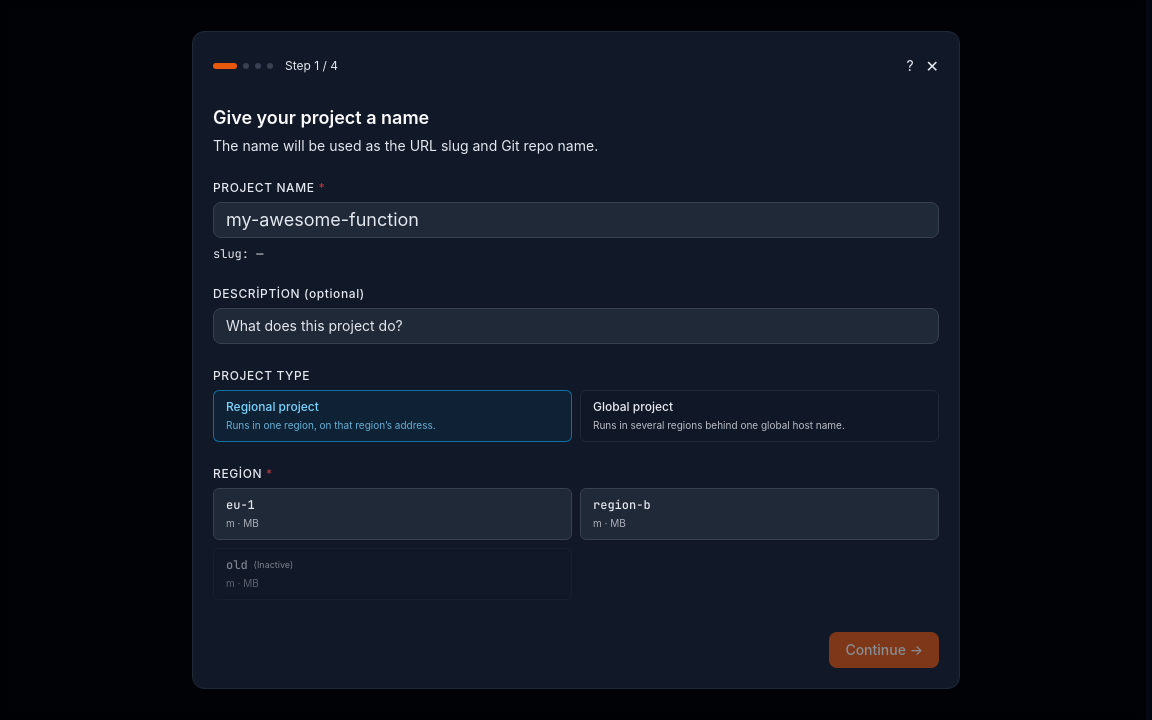
Test: CreateProjectModal wizard › step 1 needs a 2+ character, unique, Kubernetes-safe name and a ready region
Step 1. Type "x" into the field with placeholder "my-awesome-function" → [576, 220], box [213,202,939,238]
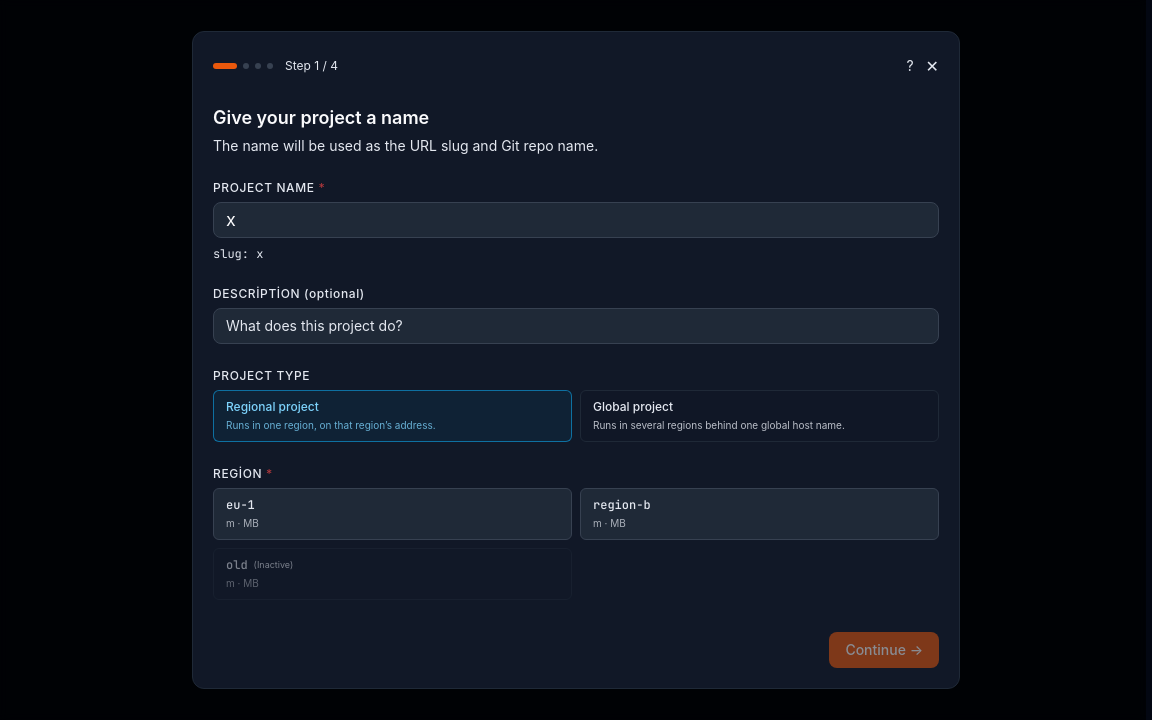
Step 2. Click the button "eu-1 m · MB" → [242, 523], box [213,488,572,540]
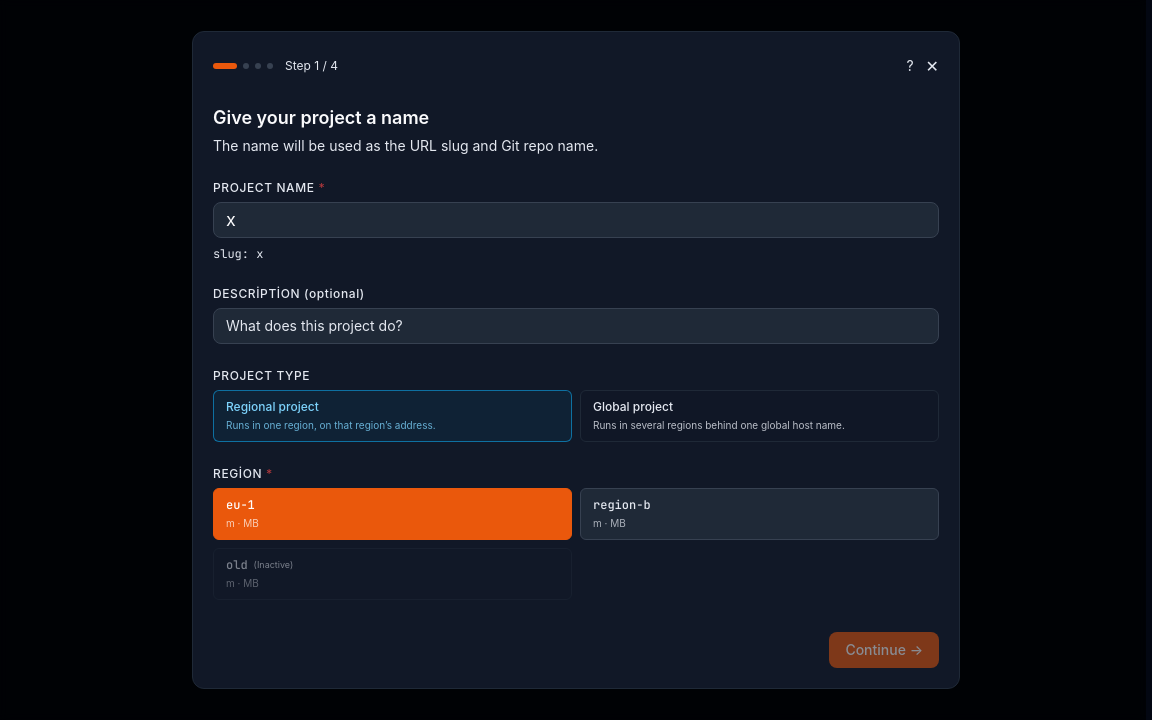
Step 3. Replace the text in the 1st field with "billing" → [576, 220], box [213,202,939,238]
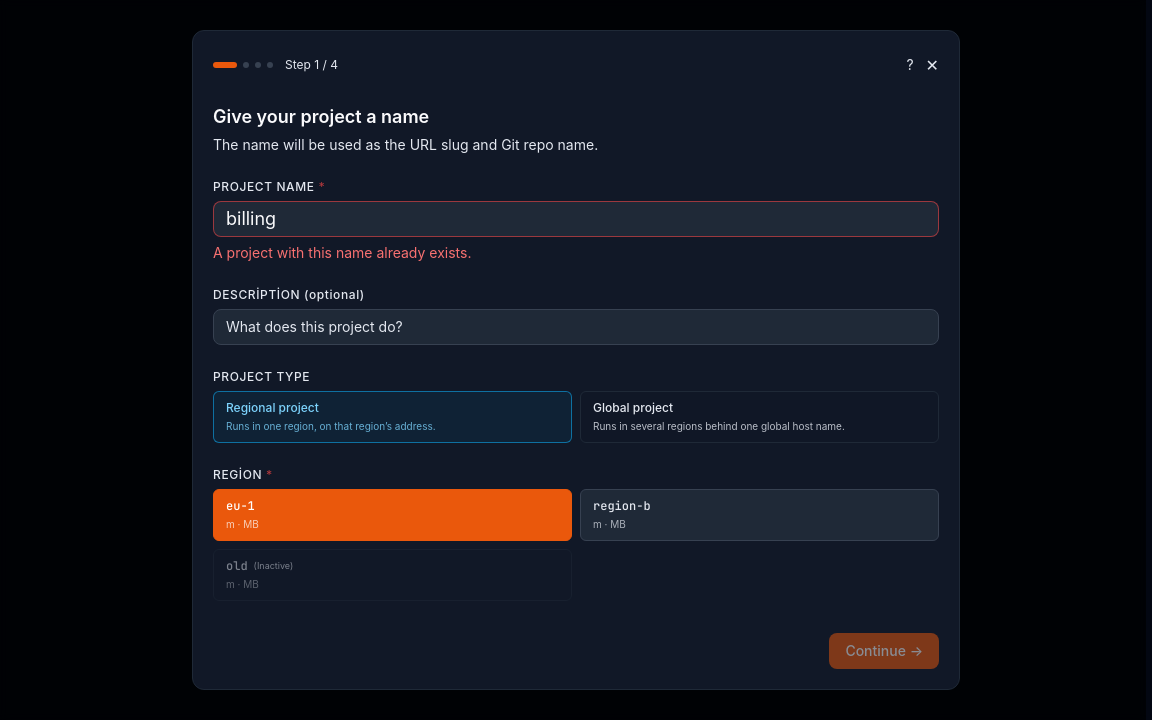
Check: the text "A project with this name already exists." is shown, box [213,244,471,261]
Step 4. Replace the text in the 1st field with "42 things" → [576, 219], box [213,201,939,237]
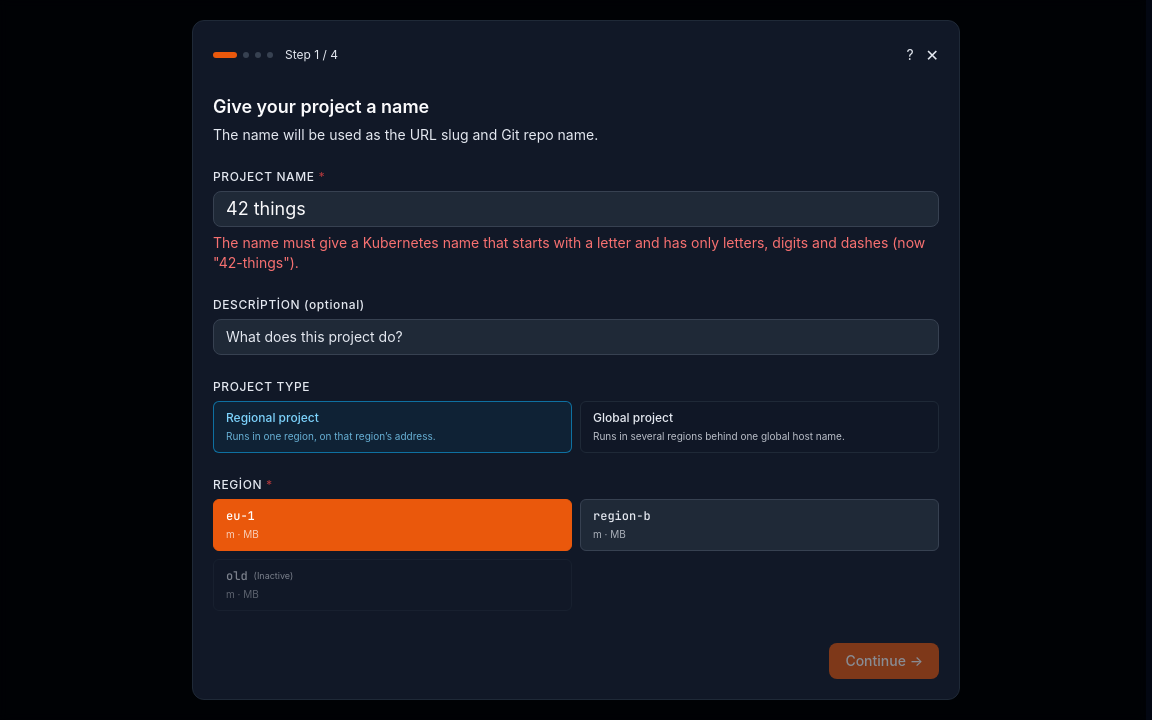
Check: the text "starts with a letter" is shown, box [213,234,925,271]
Step 5. Replace the text in the 1st field with "Orders API" → [576, 209], box [213,191,939,227]
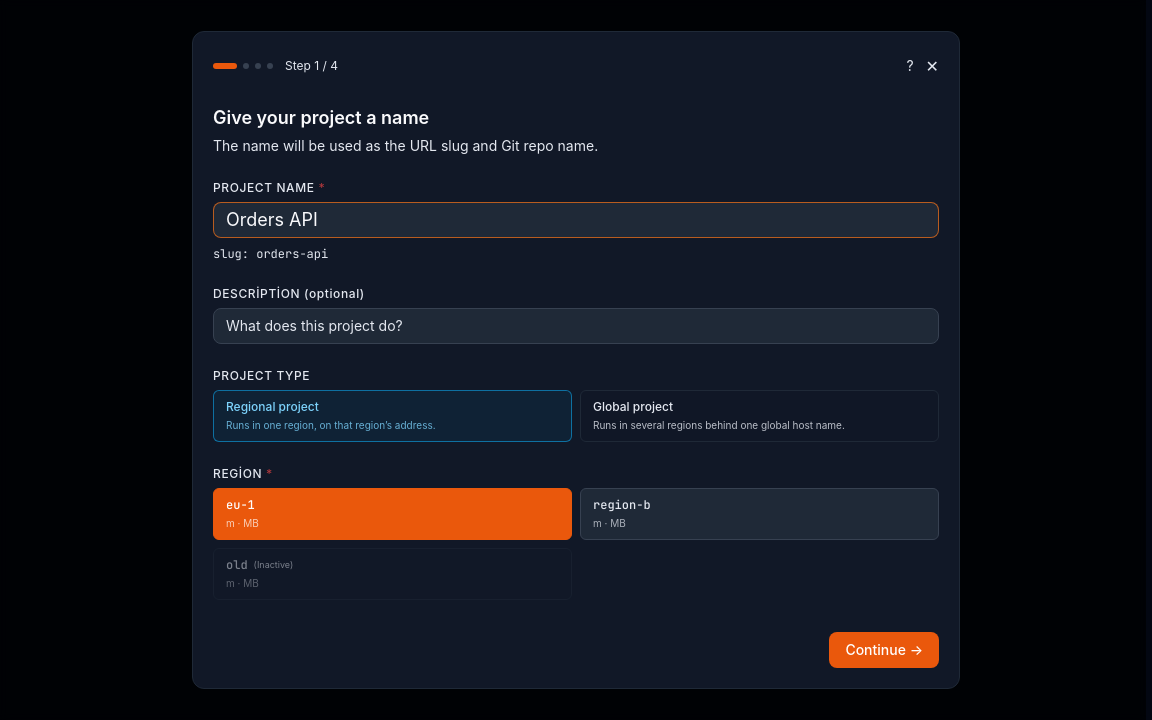
Check: the text "slug: orders-api" is shown, box [213,246,328,262]
